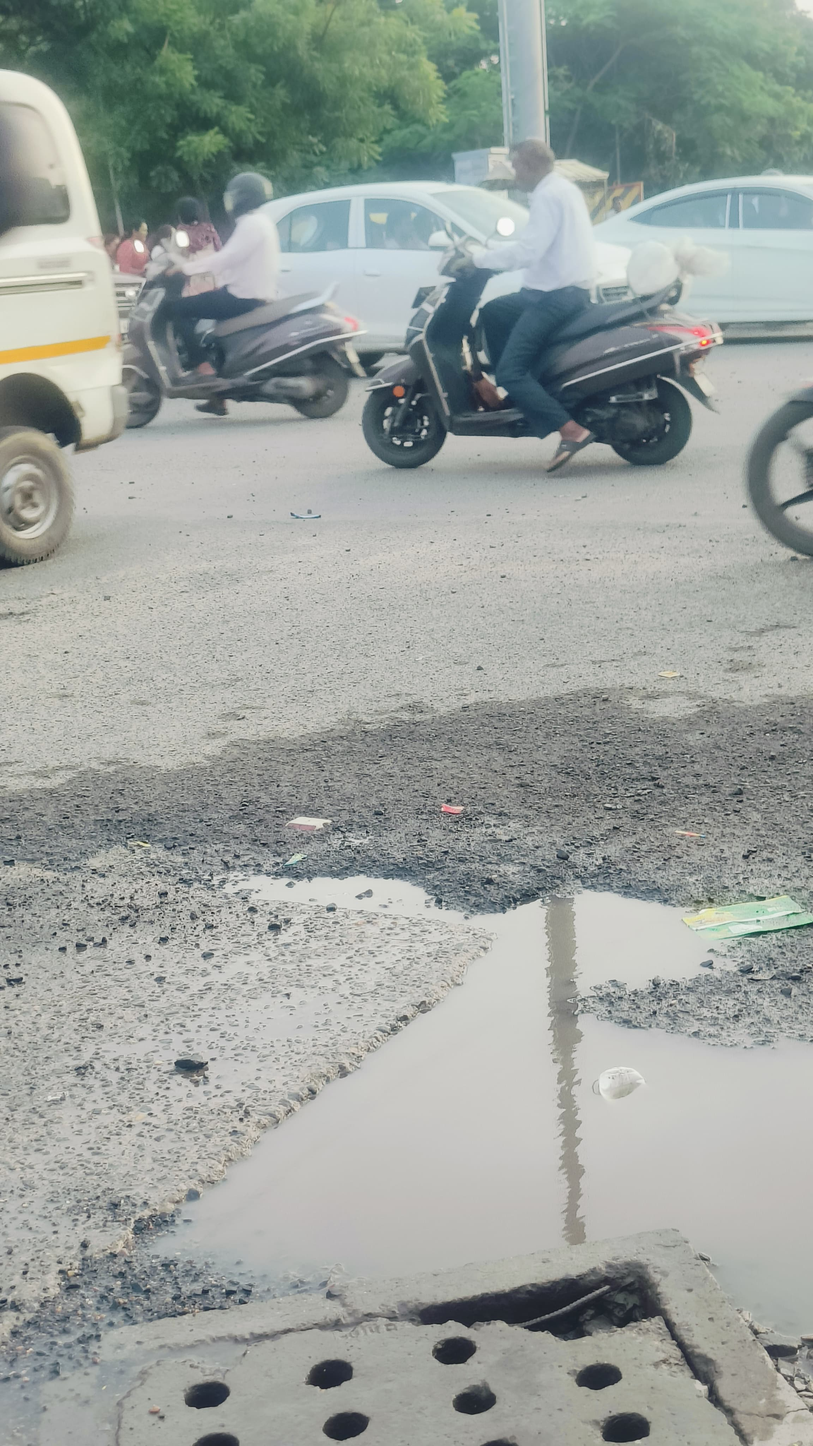BikeWithRider: (327, 116, 737, 491), (82, 154, 377, 430)
Helmet: (210, 163, 281, 217)
NoHelmet: (489, 122, 571, 203)
